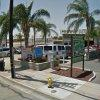Palm tree: (15, 1, 56, 51)
